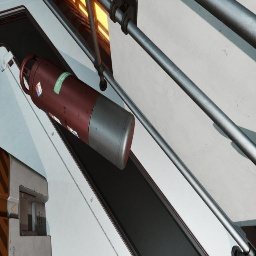NitrogenTank ,: (19, 54, 135, 170)
